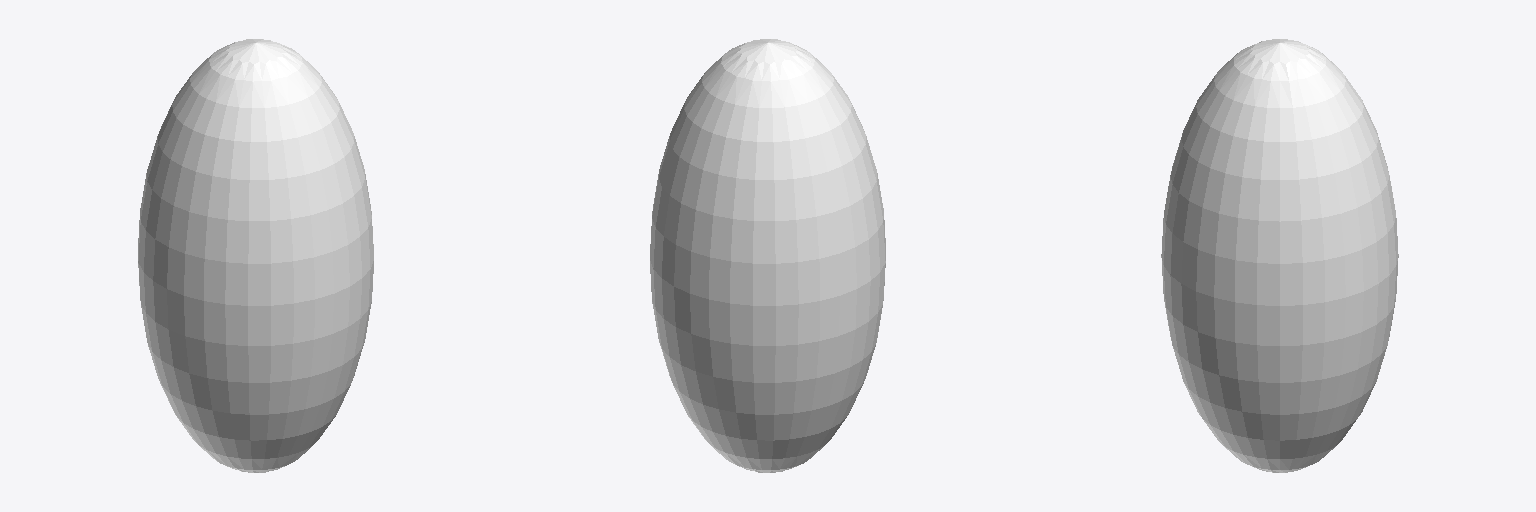
The model's file is huevo.obj.
3 renders of one model, left to right at view 1: azimuth 30°, elevation 25°; view 2: azimuth 150°, elevation 25°; view 3: azimuth 270°, elevation 25°, orthographic.
Visible parts, largest first — view 1: sphere1; view 2: sphere1; view 3: sphere1.
Boxes of the visible parts, box(x1,y1,x2,y2) form: sphere1: box(138, 39, 373, 472); sphere1: box(650, 39, 885, 472); sphere1: box(1161, 39, 1398, 472).
Size of the model in its own units: 1.92 by 3.82 by 1.92.